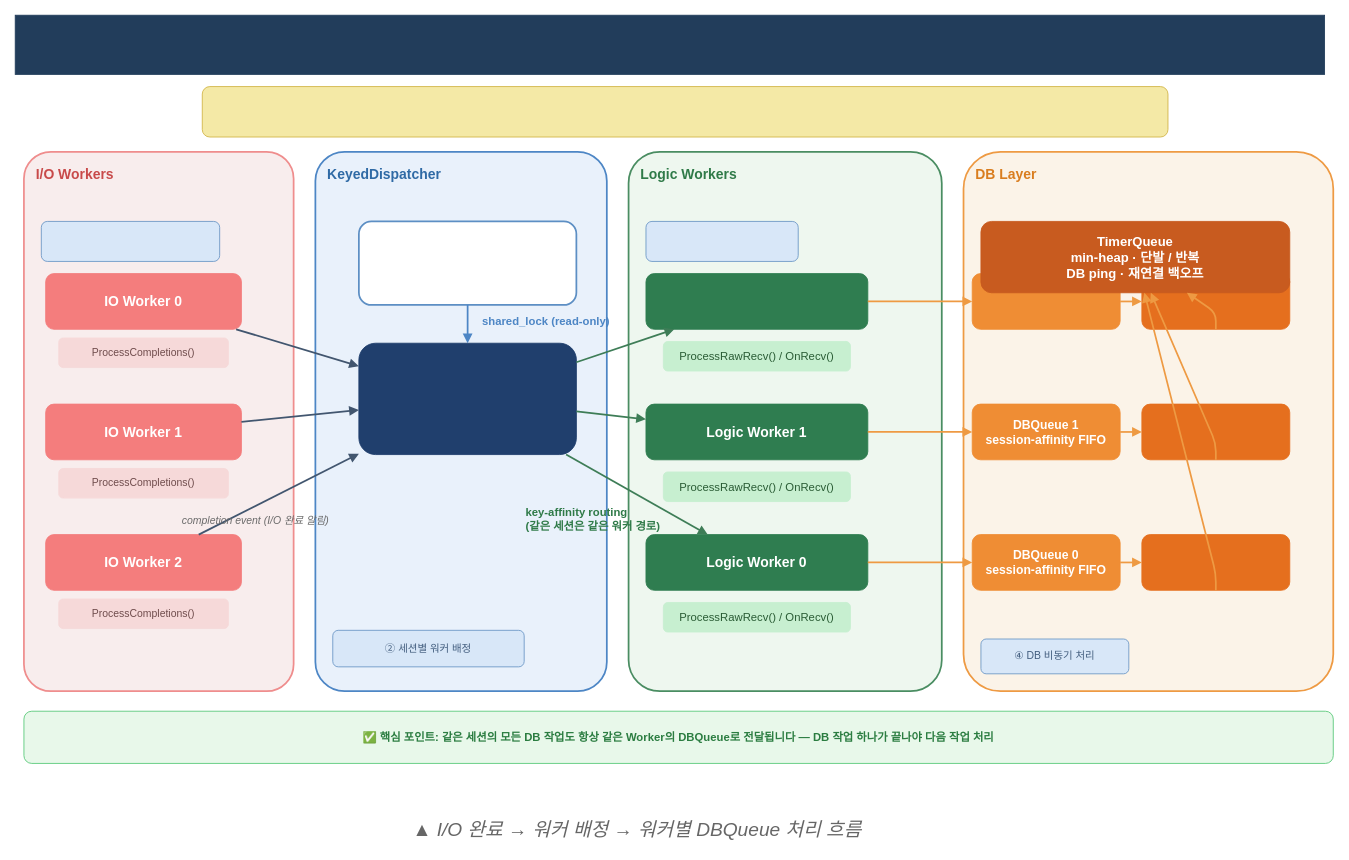
Some shapes in this 1349 by 860 pixel diagram are drawn without their labels. The centre of each missing label's shape, as x and y in pixels:
Async Thread Model — Dispatch Flow: (x=669, y=44)
DB Worker 0 single thread: (x=1215, y=562)
DB Worker 1 single thread: (x=1215, y=431)
DB Worker 2 single thread: (x=1215, y=301)
DBQueue 2 session-affinity FIFO: (x=1045, y=301)
ExecutionQueue Mutex / Lock-Free 백엔드 선택 가능: (x=467, y=262)
KeyedDispatcher key % N → worker index: (x=467, y=398)
Logic Worker 2: (x=756, y=301)
① I/O 완료 감지: (x=130, y=241)
③ 로직 처리: (x=721, y=241)
동일 세션의 모든 작업은 항상 같은 Logic Worker로 전달 → Session 단위 FIFO 보장 → recv 처리에 Lock 불필요: (x=684, y=111)
